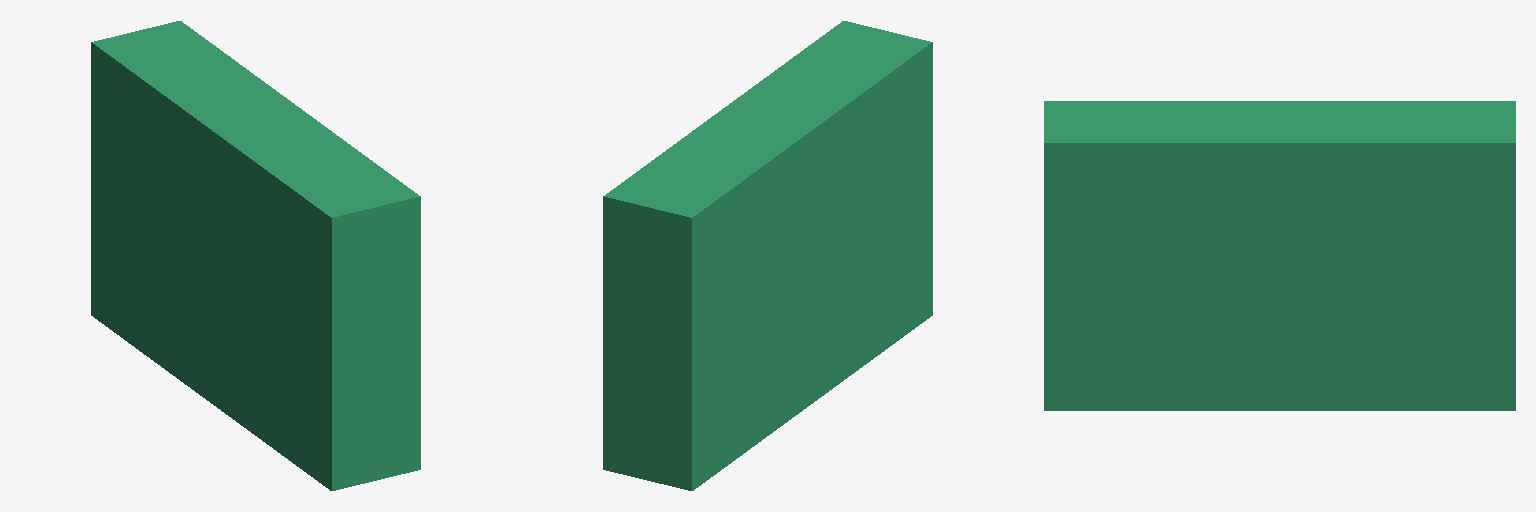
URDF robot description (random_box):
<?xml version='1.0' encoding='UTF-8'?>
<robot name="random_box">
  <link name="box">
    <visual>
      <geometry>
        <box size="0.010211707781562003 0.04778486829761007 0.03"/>
      </geometry>
      <material name="color">
        <color rgba="0.2723521904255507 0.6796595330779355 0.4801685820296663 1"/>
      </material>
    </visual>
    <collision>
      <geometry>
        <box size="0.010211707781562003 0.04778486829761007 0.03"/>
      </geometry>
    </collision>
  </link>
</robot>

--- What the picture shows (computed from the rendered views, not written in the file) ---
The picture shows the robot from 3 angles, left to right: view 1: azimuth 30°, elevation 25°; view 2: azimuth 150°, elevation 25°; view 3: azimuth 270°, elevation 25°; orthographic projection.
Robot: random_box — 1 links, 0 joints (none); root link box; default pose: every joint at zero.
Visible links, largest first — view 1: box; view 2: box; view 3: box.
Boxes of the visible links, x1,y1,x2,y2 form: box: (91,21,420,490); box: (603,21,932,490); box: (1044,101,1515,410).
Size in the robot's own frame: 0.0102 by 0.0478 by 0.03 metres.
Geometry: primitives only (box / cylinder / sphere), no mesh files.